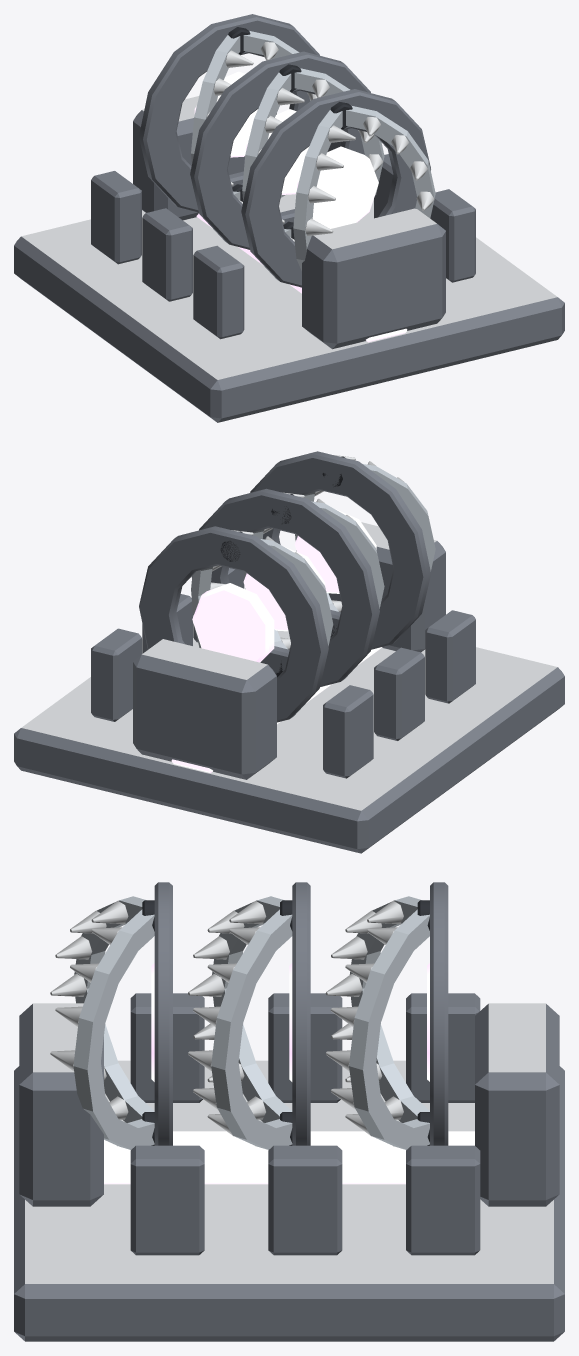
The model's file is R4X_SnareTrapDeployer_LOD1.fbx.
3 views of the same model, one above another, from view 1: azimuth 30°, elevation 25°; view 2: azimuth 150°, elevation 25°; view 3: azimuth 270°, elevation 25° (orthographic). The views are drawn at different scales.
Visible parts, largest first — view 1: R4X_SnareTrapDeployer_LOD1; view 2: R4X_SnareTrapDeployer_LOD1; view 3: R4X_SnareTrapDeployer_LOD1.
Boxes of the visible parts, x1=… form: R4X_SnareTrapDeployer_LOD1: x1=14, y1=14, x2=564, y2=422; R4X_SnareTrapDeployer_LOD1: x1=14, y1=451, x2=564, y2=853; R4X_SnareTrapDeployer_LOD1: x1=14, y1=882, x2=564, y2=1341.
Size of the model in its own units: 0.52 by 0.3479 by 0.52.
